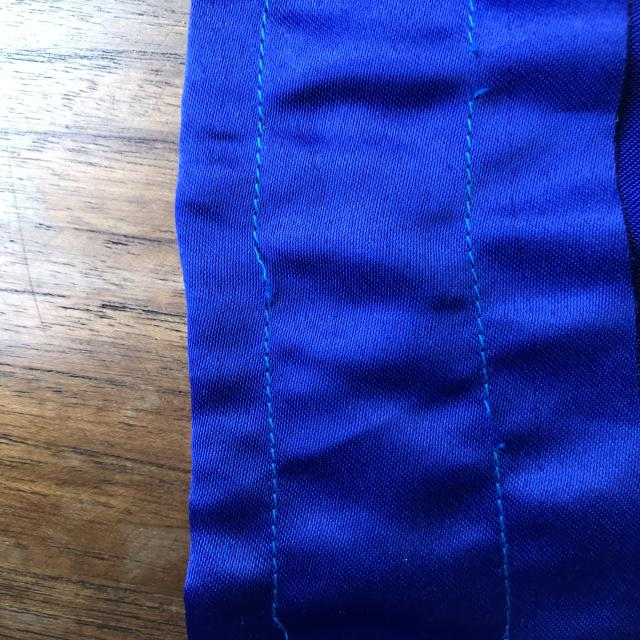broken: (446, 27, 514, 126), (470, 381, 530, 474)
good: (443, 170, 499, 295)
skip: (227, 216, 308, 328)
